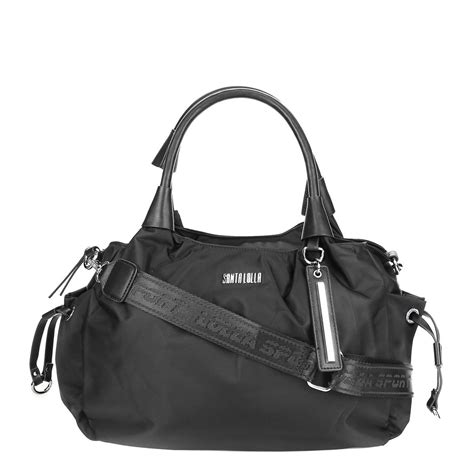nylon: (52, 227, 427, 452)
